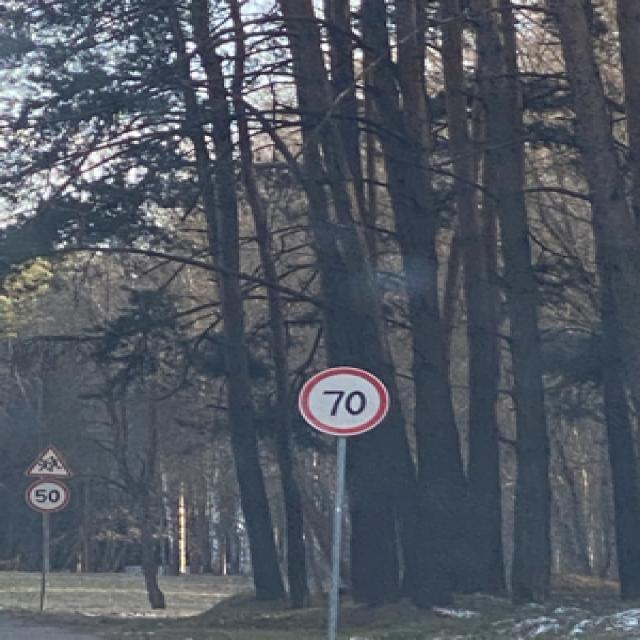speedlimit: (295, 366, 386, 434), (26, 478, 64, 509)
